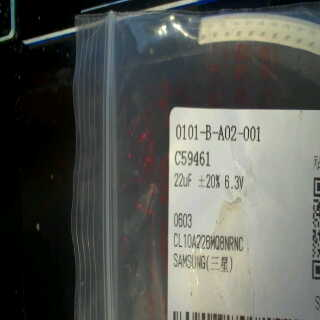22uF: (171, 171, 196, 188)
